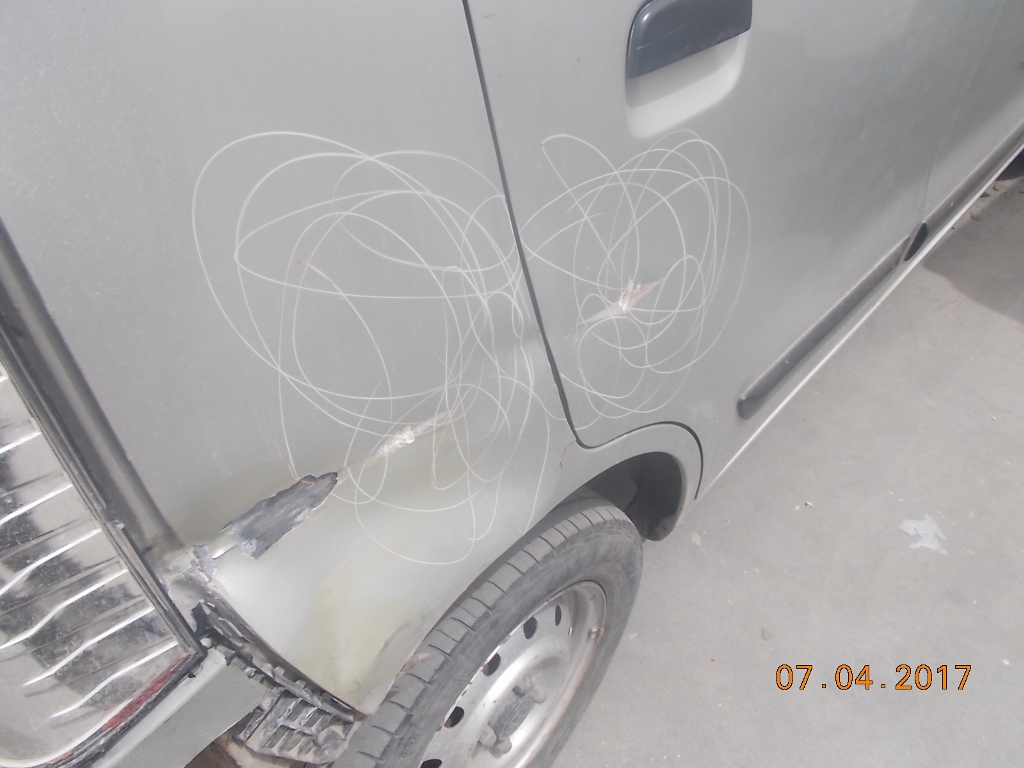Dent: (214, 449, 430, 588)
